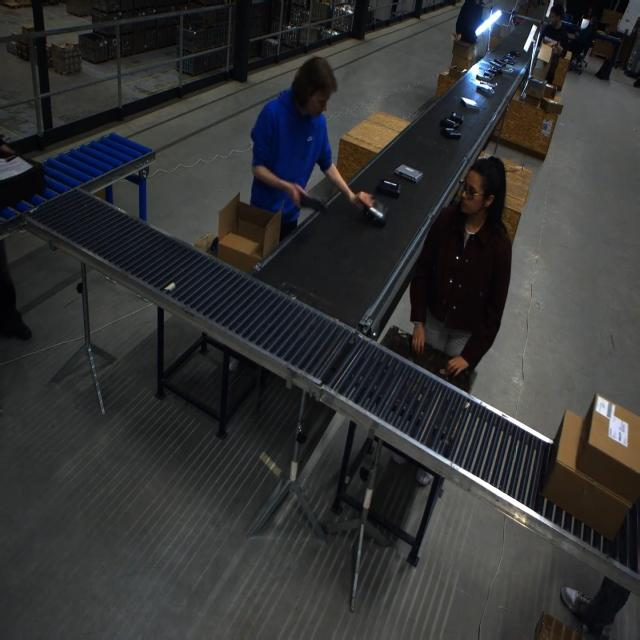box: (539, 395, 640, 538), (215, 191, 281, 272), (523, 77, 545, 101), (539, 94, 563, 115)
product: (360, 191, 397, 227), (394, 164, 423, 183), (375, 179, 400, 199), (441, 128, 461, 140), (460, 96, 479, 108), (480, 60, 502, 70), (480, 67, 498, 79), (440, 118, 459, 129), (476, 74, 495, 84), (448, 112, 463, 124), (488, 58, 503, 65), (500, 66, 513, 74), (505, 51, 519, 58), (501, 53, 513, 60), (503, 59, 515, 66)
